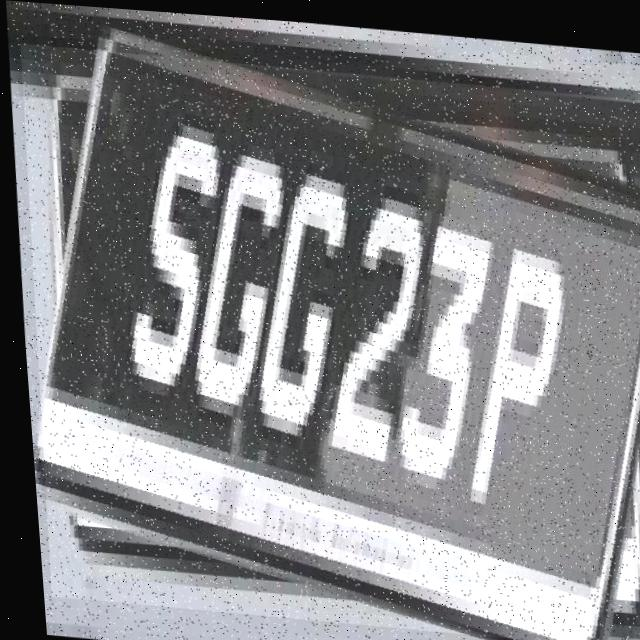LicensePlate: (9, 41, 640, 640)
